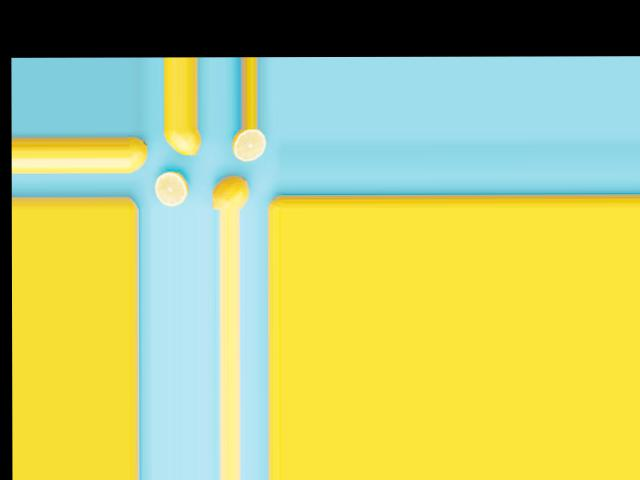lemon: (127, 140, 150, 175)
